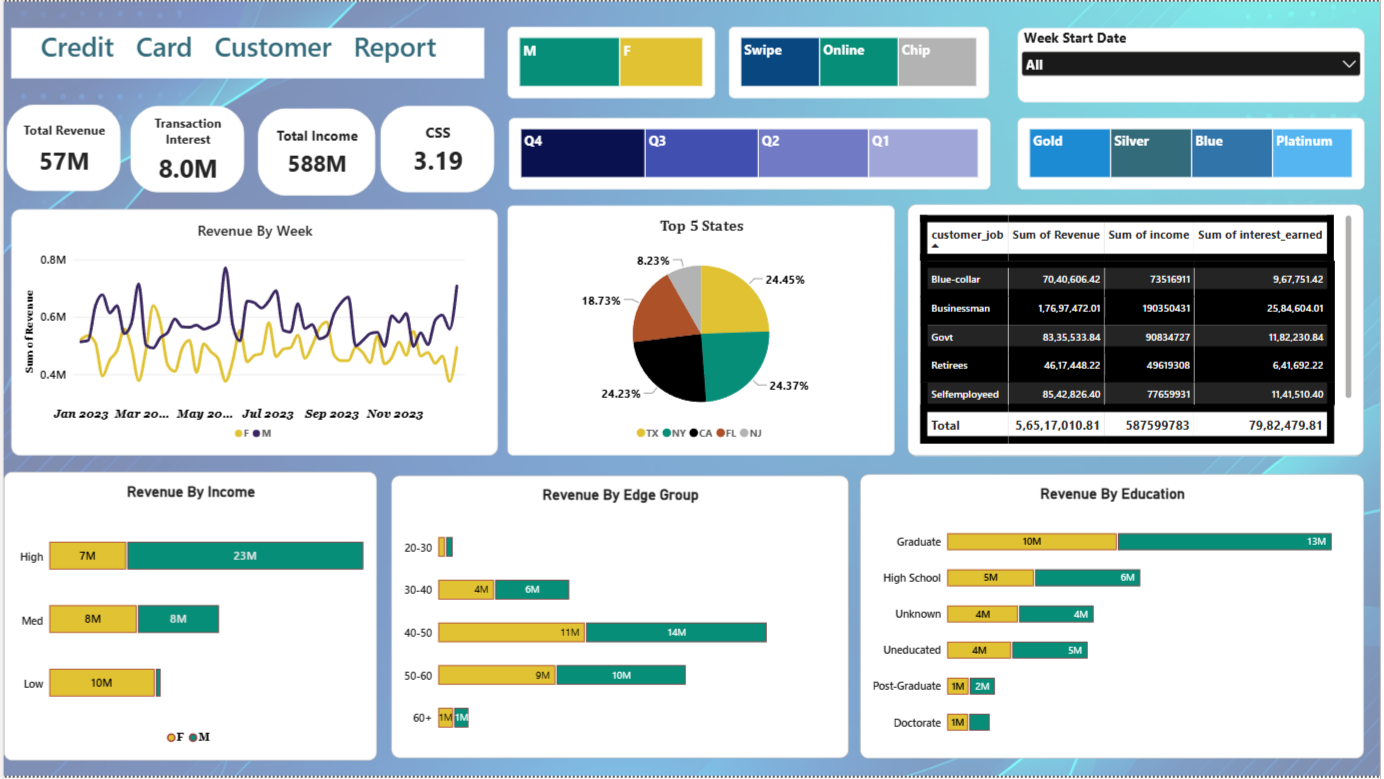

Layout of this report page (visuals, bound fields, positions):
{"tool":"powerbi","page":{"name":"CC Customer","canvas":[1920,1080],"ordinal":1},"visuals":[{"type":"textbox","box":[10,36,660,70],"z":0},{"type":"barChart","title":"Revenue By Income","fields":{"Category":["public cust_detail.IncomeGroup"],"Y":["Sum(public cc_detail.Revenue)"],"Series":["public cust_detail.gender"]},"box":[0,656.1,521.1,403.5],"z":1000},{"type":"tableEx","fields":{"Values":["public cust_detail.customer_job","Sum(public cc_detail.Revenue)","Sum(public cust_detail.income)","Sum(public cc_detail.interest_earned)"]},"box":[1261.4,282.5,636.8,350.9],"z":2000},{"type":"cardVisual","fields":{"Data":["Sum(public cc_detail.Revenue)"]},"box":[0,140,167.4,129.1],"z":3000},{"type":"cardVisual","fields":{"Data":["Sum(public cust_detail.income)"]},"box":[350,144,172,130],"z":4000},{"type":"cardVisual","fields":{"Data":["Avg(public cust_detail.cust_satisfaction_score)"]},"box":[522,142,167.4,129.1],"z":5000},{"type":"slicer","fields":{"Values":["public cc_detail.week_start_date"]},"box":[1414,36,484,104],"z":6000},{"type":"treemap","fields":{"Group":["public cc_detail.card_category"],"Values":["Avg(public cust_detail.client_num)"]},"box":[1414,162,484,100],"z":7000},{"type":"treemap","fields":{"Group":["public cc_detail.qtr"],"Values":["Avg(public cust_detail.client_num)"]},"box":[704,162,672,100],"z":9000},{"type":"treemap","fields":{"Group":["public cc_detail.use_chip"],"Values":["Avg(public cust_detail.client_num)"]},"box":[1012.3,35.1,363.2,100],"z":10000},{"type":"cardVisual","fields":{"Data":["Sum(public cc_detail.interest_earned)"]},"box":[172,142,167.4,129.1],"z":11000},{"type":"lineChart","title":"Revenue By Week","fields":{"Category":["public cc_detail.week_start_date.Variation.Date Hierarchy.Year","public cc_detail.week_start_date.Variation.Date Hierarchy.Month","public cc_detail.week_start_date.Variation.Date Hierarchy.Day"],"Y":["Sum(public cc_detail.Revenue)"],"Series":["public cust_detail.gender"]},"box":[10.5,289.5,678.9,343.9],"z":12000},{"type":"treemap","fields":{"Group":["public cust_detail.gender"],"Values":["Sum(public cc_detail.Revenue)"]},"box":[703.5,35.1,289.5,100],"z":13000},{"type":"barChart","title":"Revenue By Edge Group","fields":{"Category":["public cust_detail.AgeGroup"],"Y":["Sum(public cc_detail.Revenue)"],"Series":["public cust_detail.gender"]},"box":[540.4,661.4,638.6,394.7],"z":13001},{"type":"barChart","title":"Revenue By Education ","fields":{"Category":["public cust_detail.education_level"],"Y":["Sum(public cc_detail.Revenue)"],"Series":["public cust_detail.gender"]},"box":[1194.7,659.6,703.5,396.5],"z":13003},{"type":"pieChart","title":"Top 5 States ","fields":{"Y":["Sum(public cc_detail.Revenue)"],"Category":["public cust_detail.state_cd"]},"box":[703.5,284.2,540.4,349.1],"z":13004}]}

Visuals, with their boxes in screenshot pixels (x1, y1, x2, y2), scaled from the page's 1920x1080 canvas onto the 1384x779 screenshot:
textbox: region(7, 26, 483, 76)
"Revenue By Income" barChart: region(0, 473, 376, 764)
tableEx - public cust_detail.customer_job x Sum(public cc_detail.Revenue): region(909, 204, 1368, 457)
cardVisual - Sum(public cc_detail.Revenue): region(0, 101, 121, 194)
cardVisual - Sum(public cust_detail.income): region(252, 104, 376, 198)
cardVisual - Avg(public cust_detail.cust_satisfaction_score): region(376, 102, 497, 196)
slicer - public cc_detail.week_start_date: region(1019, 26, 1368, 101)
treemap - public cc_detail.card_category x Avg(public cust_detail.client_num): region(1019, 117, 1368, 189)
treemap - public cc_detail.qtr x Avg(public cust_detail.client_num): region(507, 117, 992, 189)
treemap - public cc_detail.use_chip x Avg(public cust_detail.client_num): region(730, 25, 992, 97)
cardVisual - Sum(public cc_detail.interest_earned): region(124, 102, 245, 196)
"Revenue By Week" lineChart: region(8, 209, 497, 457)
treemap - public cust_detail.gender x Sum(public cc_detail.Revenue): region(507, 25, 716, 97)
"Revenue By Edge Group" barChart: region(390, 477, 850, 762)
"Revenue By Education " barChart: region(861, 476, 1368, 762)
"Top 5 States " pieChart: region(507, 205, 897, 457)
